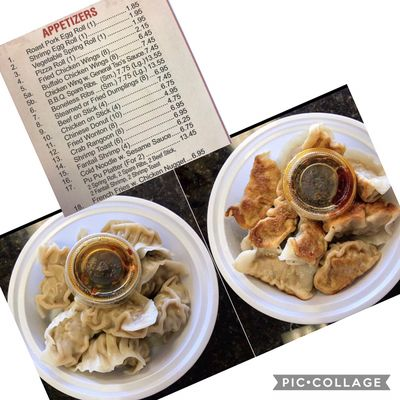pizza: (64, 233, 141, 306)
sushi: (7, 195, 220, 399), (207, 109, 399, 324)
